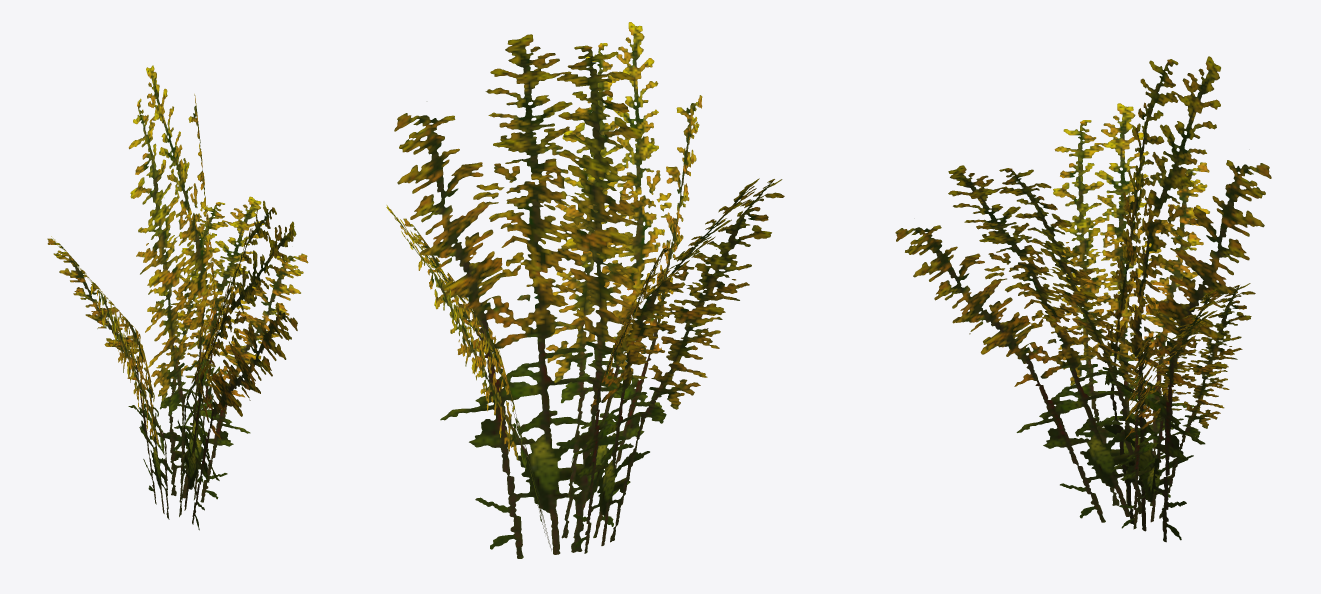
File: wm_灌木小黄草01.fbx
The picture shows the model from 3 angles, left to right: view 1: azimuth 30°, elevation 25°; view 2: azimuth 150°, elevation 25°; view 3: azimuth 270°, elevation 25°; orthographic projection. The views are drawn at different scales.
Visible parts, largest first — view 1: wm_灌木小黄草01; view 2: wm_灌木小黄草01; view 3: wm_灌木小黄草01.
Part boxes in pixels (box(x1,y1,x2,y2)): wm_灌木小黄草01: box(47, 65, 308, 530); wm_灌木小黄草01: box(386, 22, 784, 558); wm_灌木小黄草01: box(895, 56, 1271, 542).
Size of the model in its own units: 89.12 by 128 by 106.
